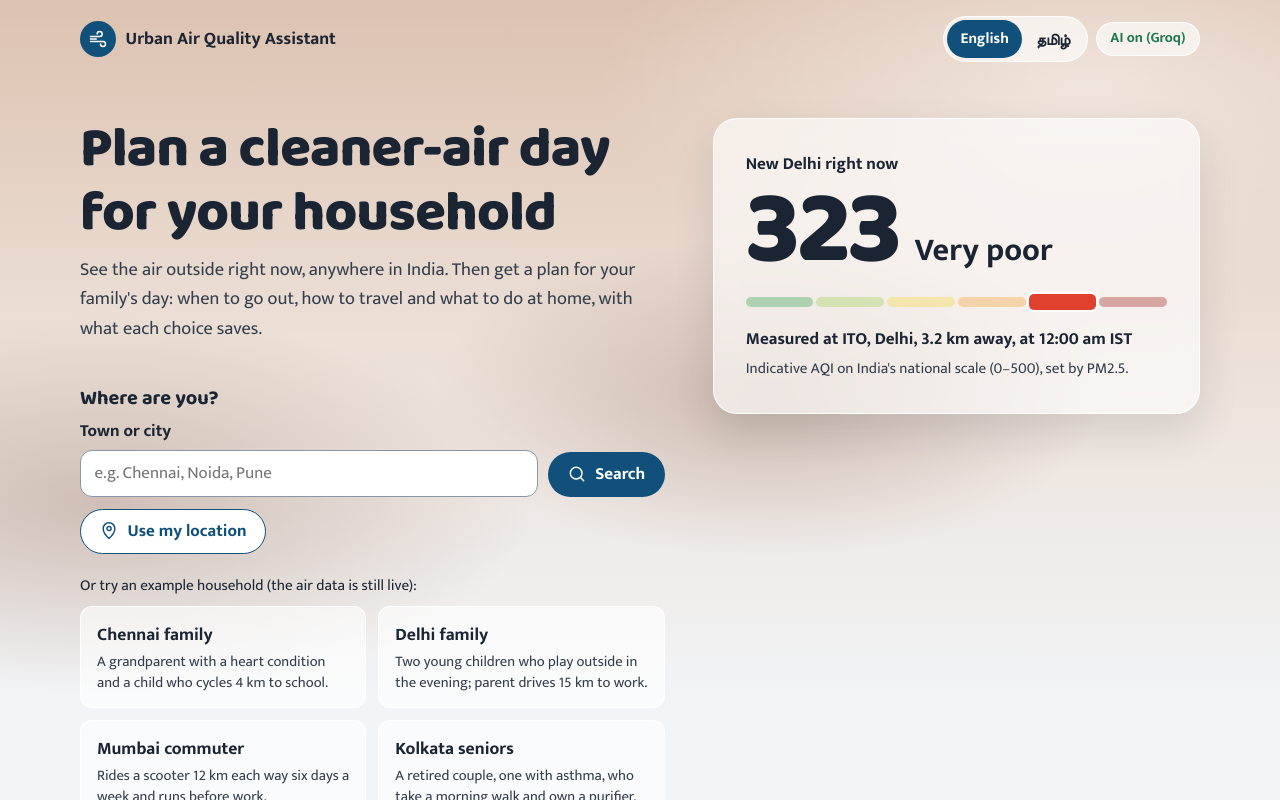
it: AssistantApp › searches for a town and loads its air
This screenshot has width=1280, height=800.
Expected: the text "AI on (Groq)" is shown, [1096,22,1200,56]
Type "Noida" into the search field labelled "Town or city" at (309, 474), box [80,450,538,497]
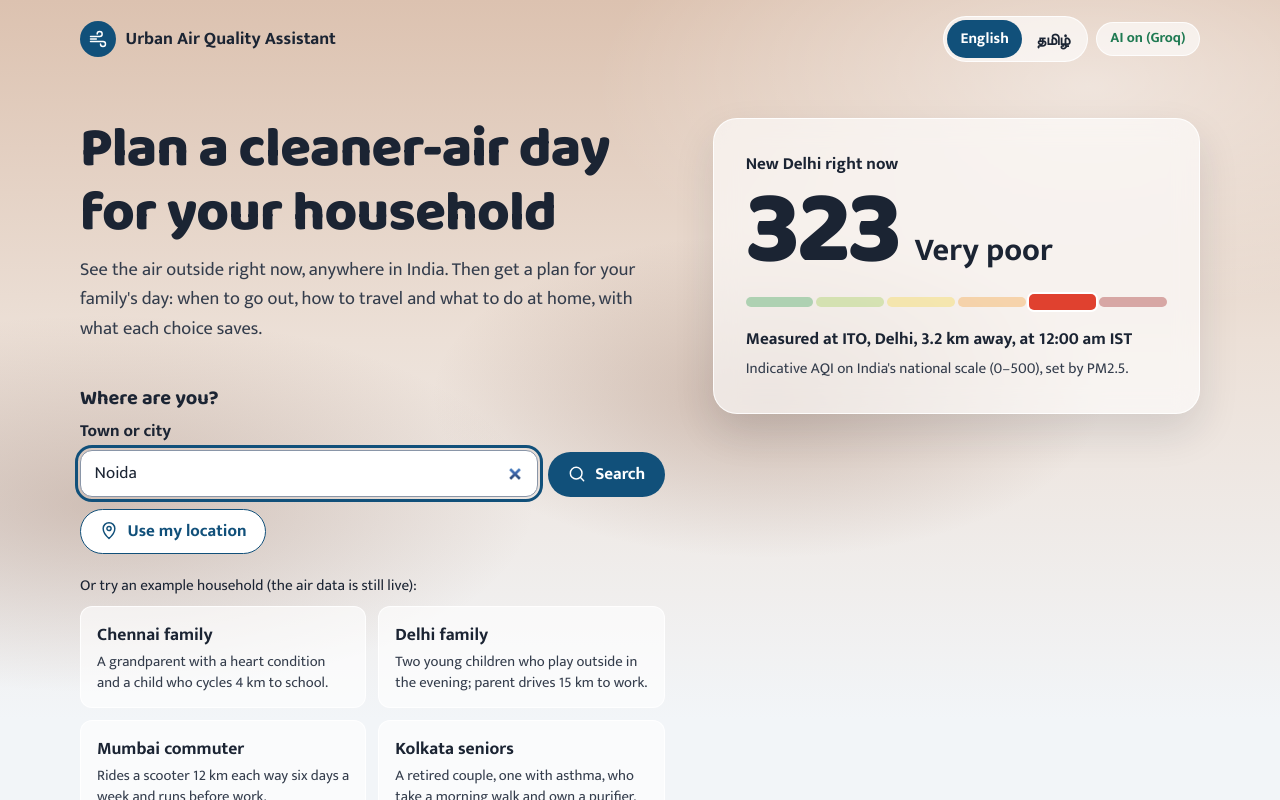
Click the button "Search" at (606, 474), box [548,452,665,497]
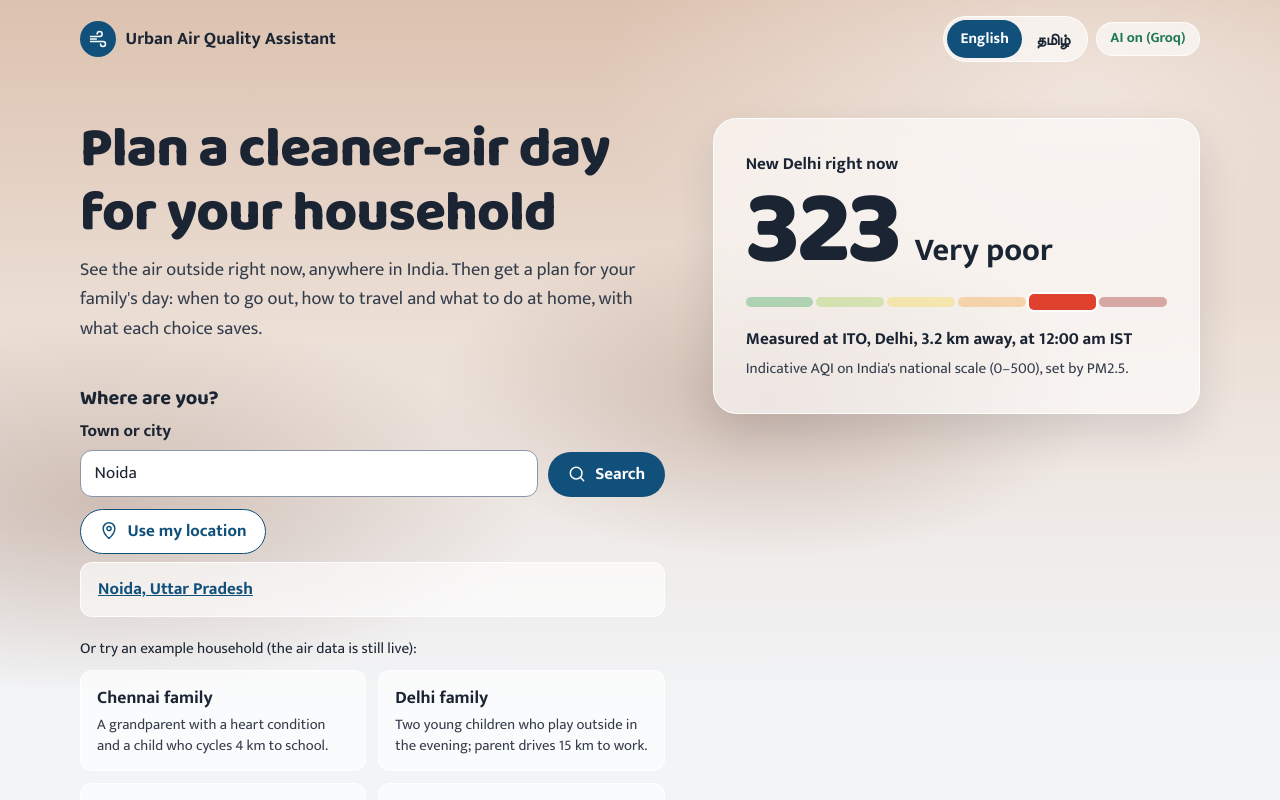
Click the button "Noida, Uttar Pradesh" at (175, 590), box [93,567,258,612]
(page scrolled)
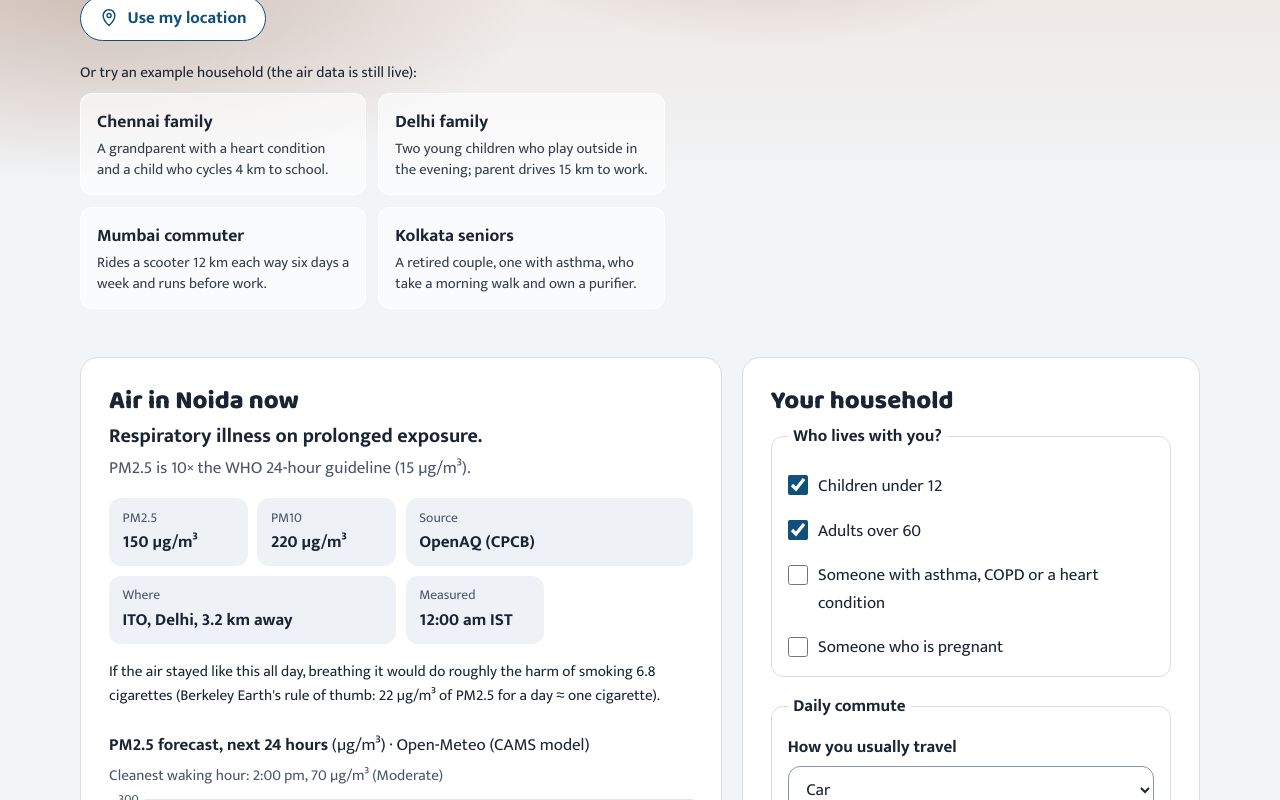
Now the heading "Air in Noida now" is shown, box [109,380,299,421]
